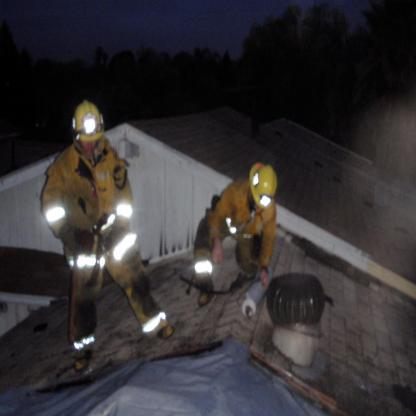Helmet: (73, 100, 105, 145), (249, 164, 279, 211)
